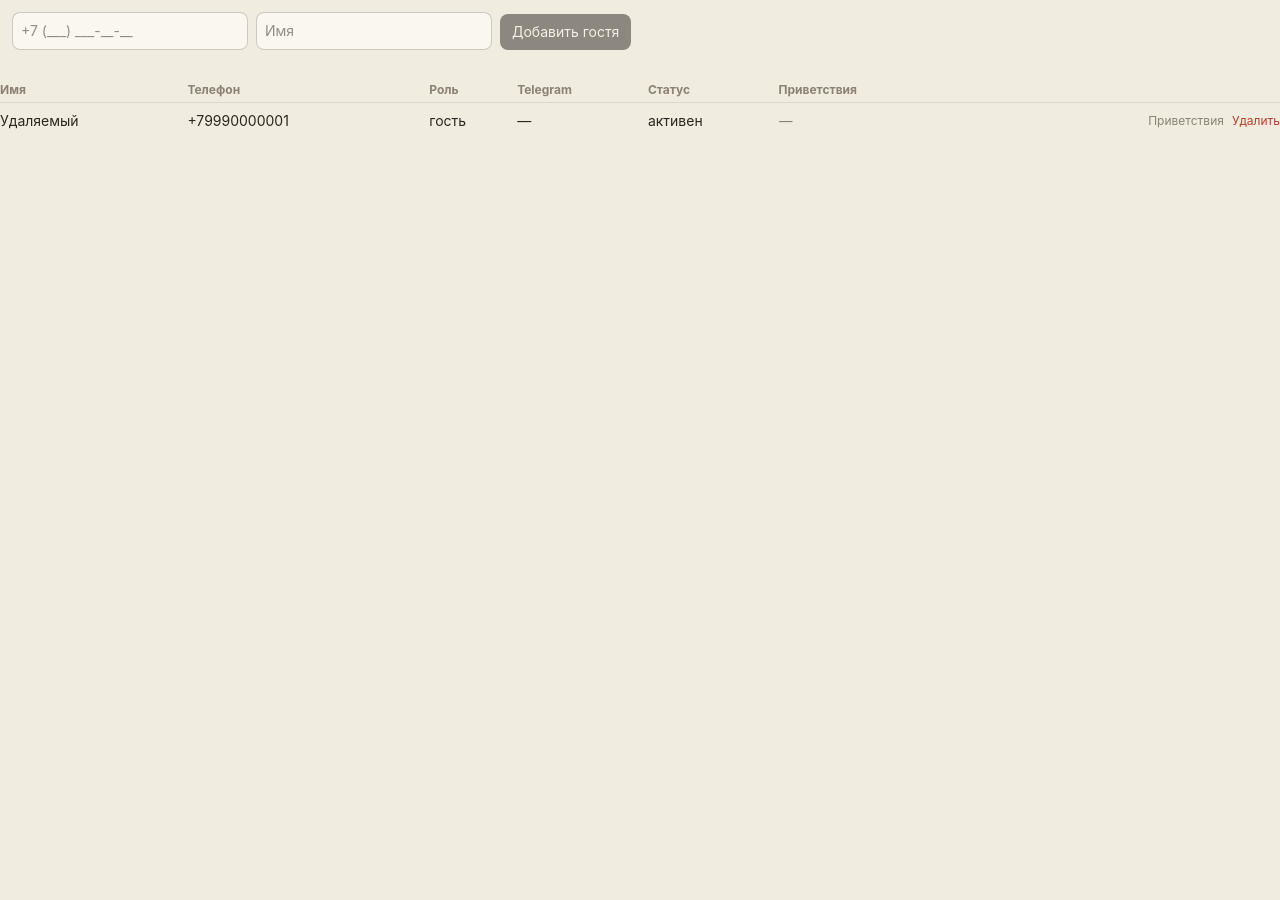
Test case: удаление гостя после подтверждения
Click the button "Удалить": (1256, 121) [1232,113,1279,129]
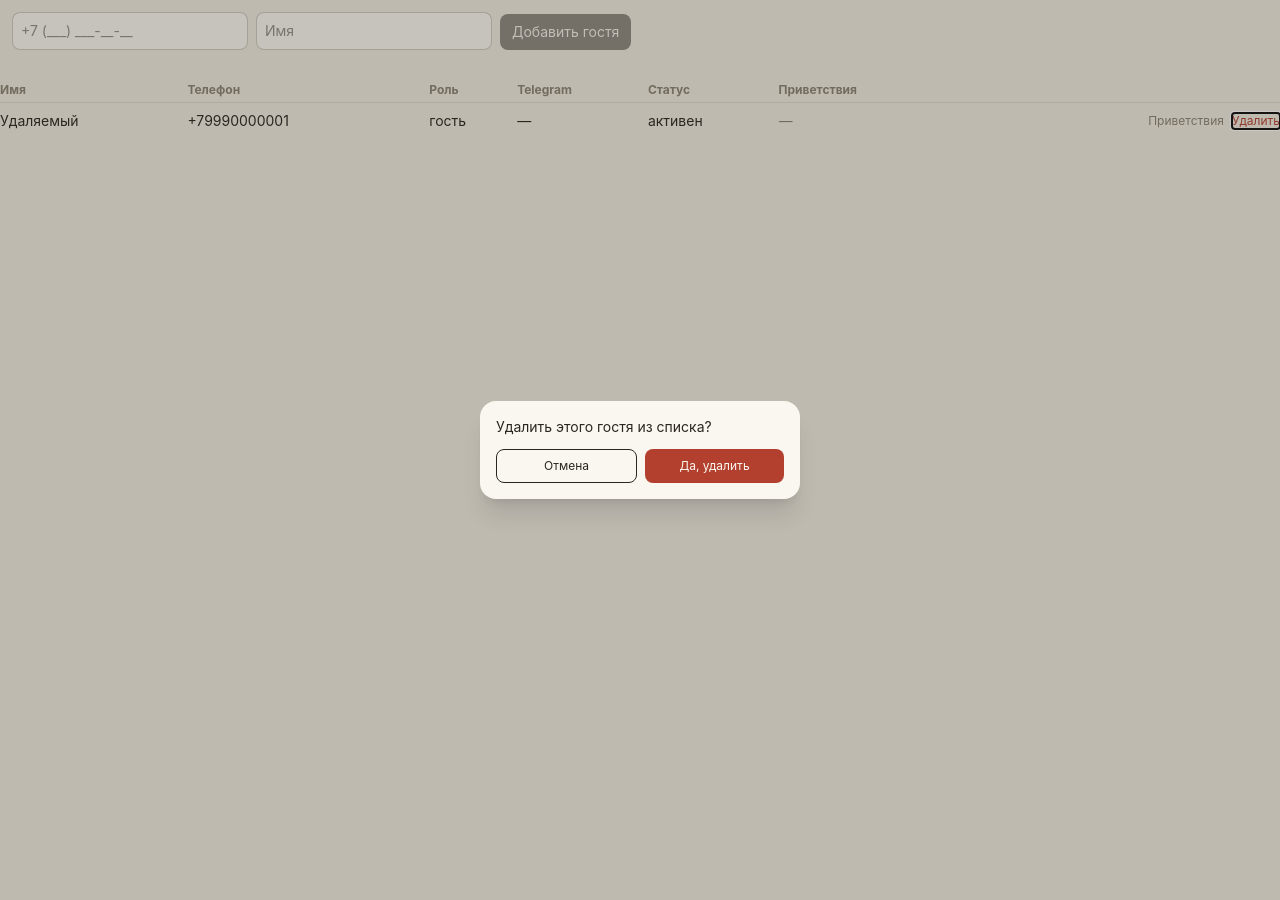
Click the button "Да, удалить": (714, 466) [645,449,784,483]
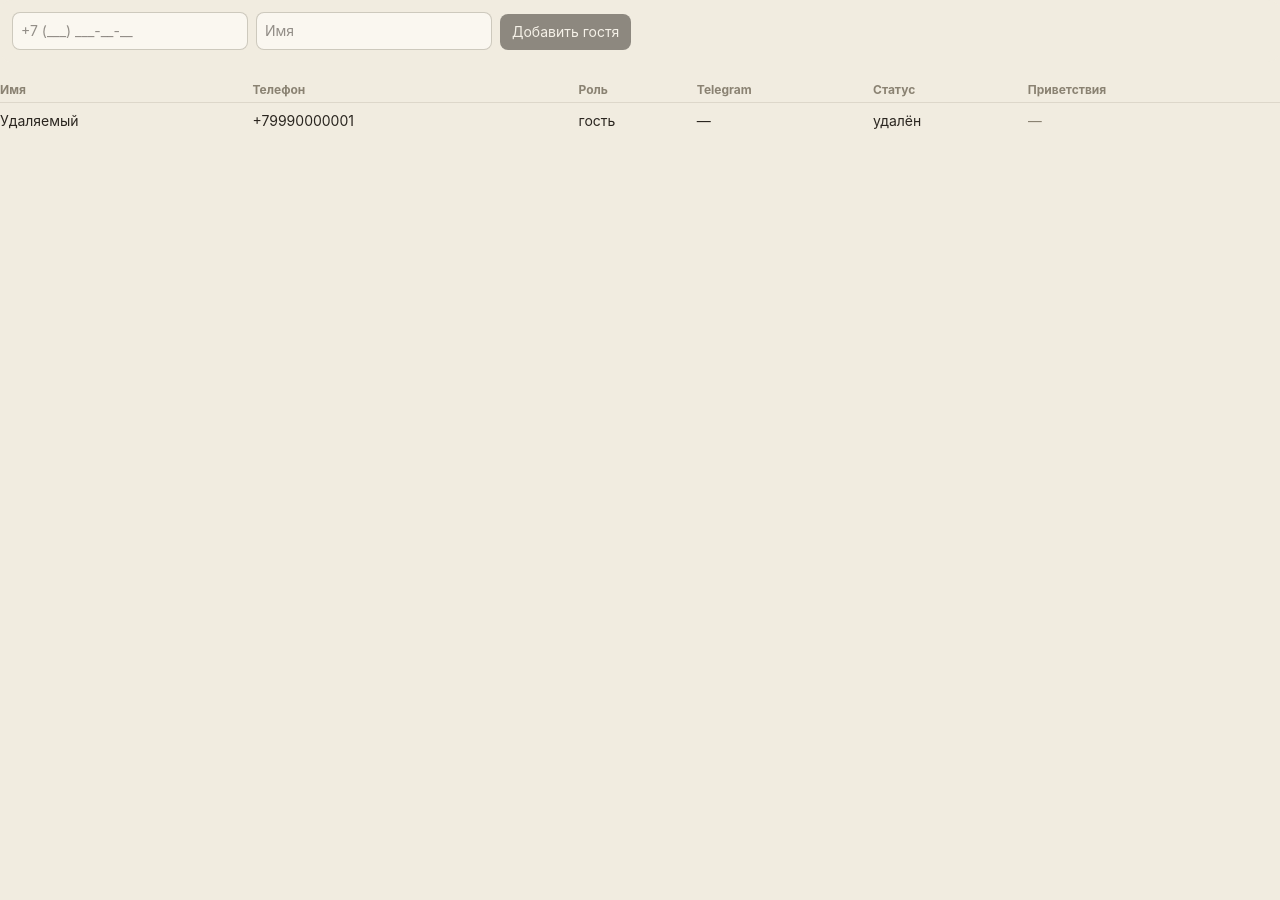
Expected: the text "удалён" is shown, [873,102,1028,139]
